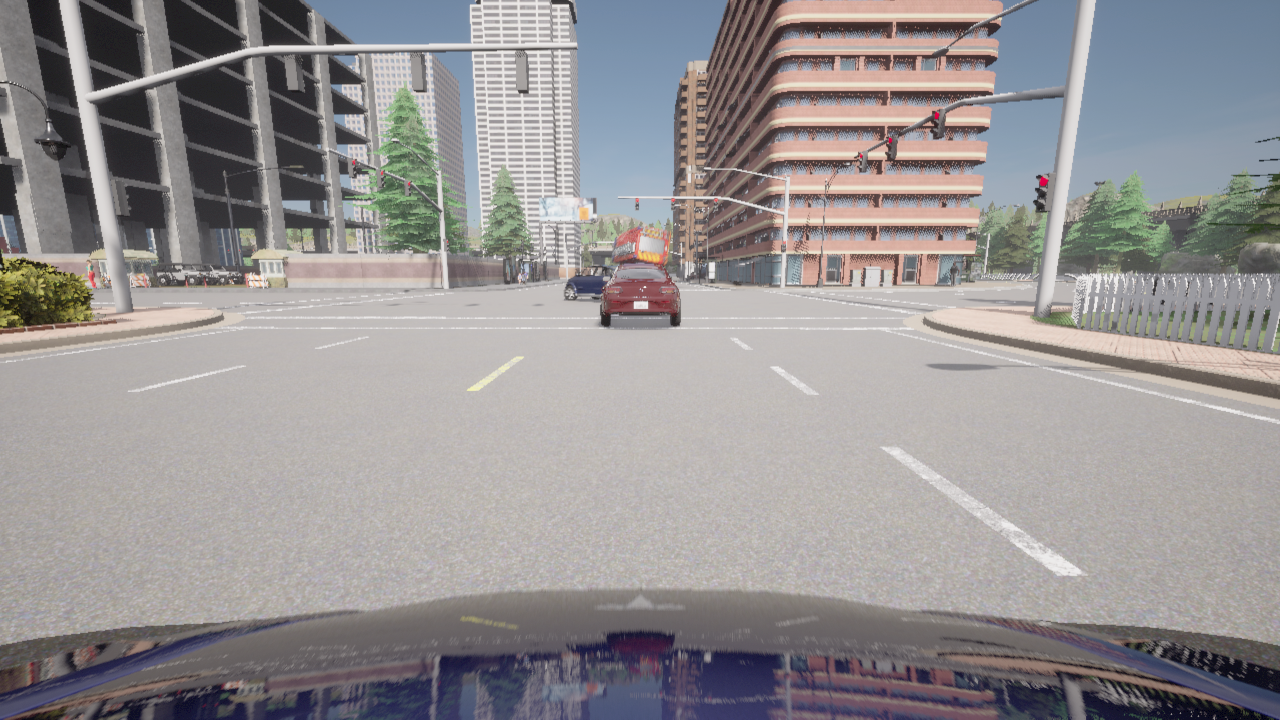cyclist: (0, 588, 1279, 719), (600, 263, 680, 325), (612, 226, 670, 265), (563, 265, 617, 300), (156, 263, 216, 285), (192, 263, 244, 284), (690, 271, 698, 278)
pedestrian: (86, 260, 96, 288), (949, 262, 959, 286), (518, 273, 521, 284), (524, 272, 527, 283), (522, 272, 524, 283)
